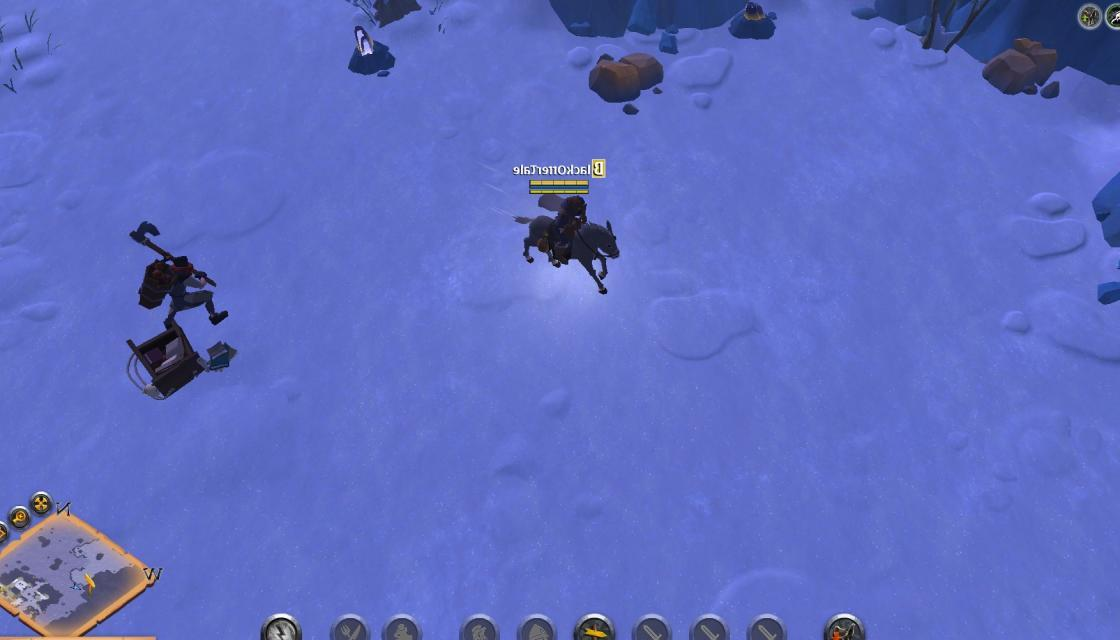copperore: (344, 25, 397, 83), (725, 0, 780, 45)
limestone: (982, 34, 1062, 104), (582, 48, 666, 108)
